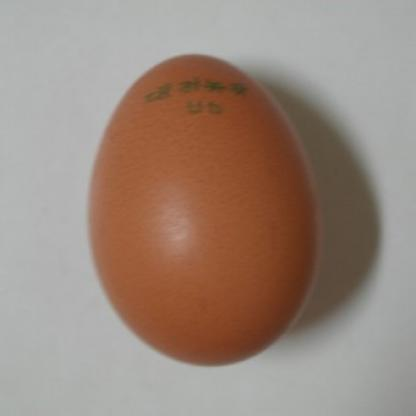egg: (88, 53, 322, 369)
